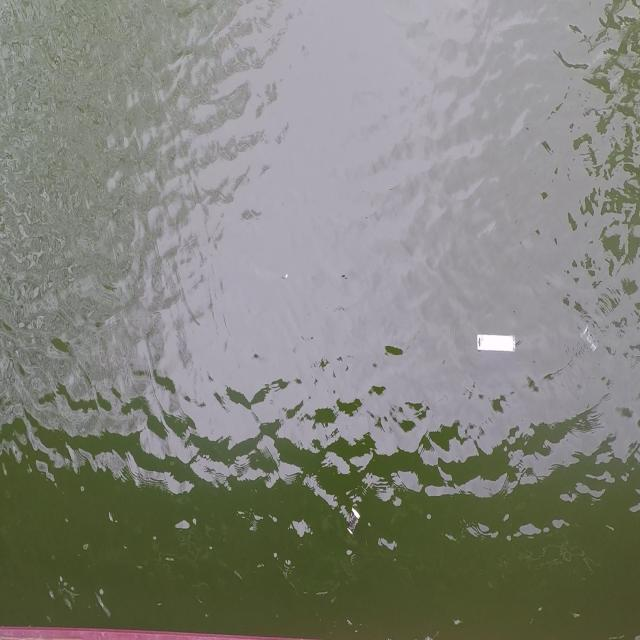Non plastique: (474, 330, 519, 358), (580, 325, 599, 355)
